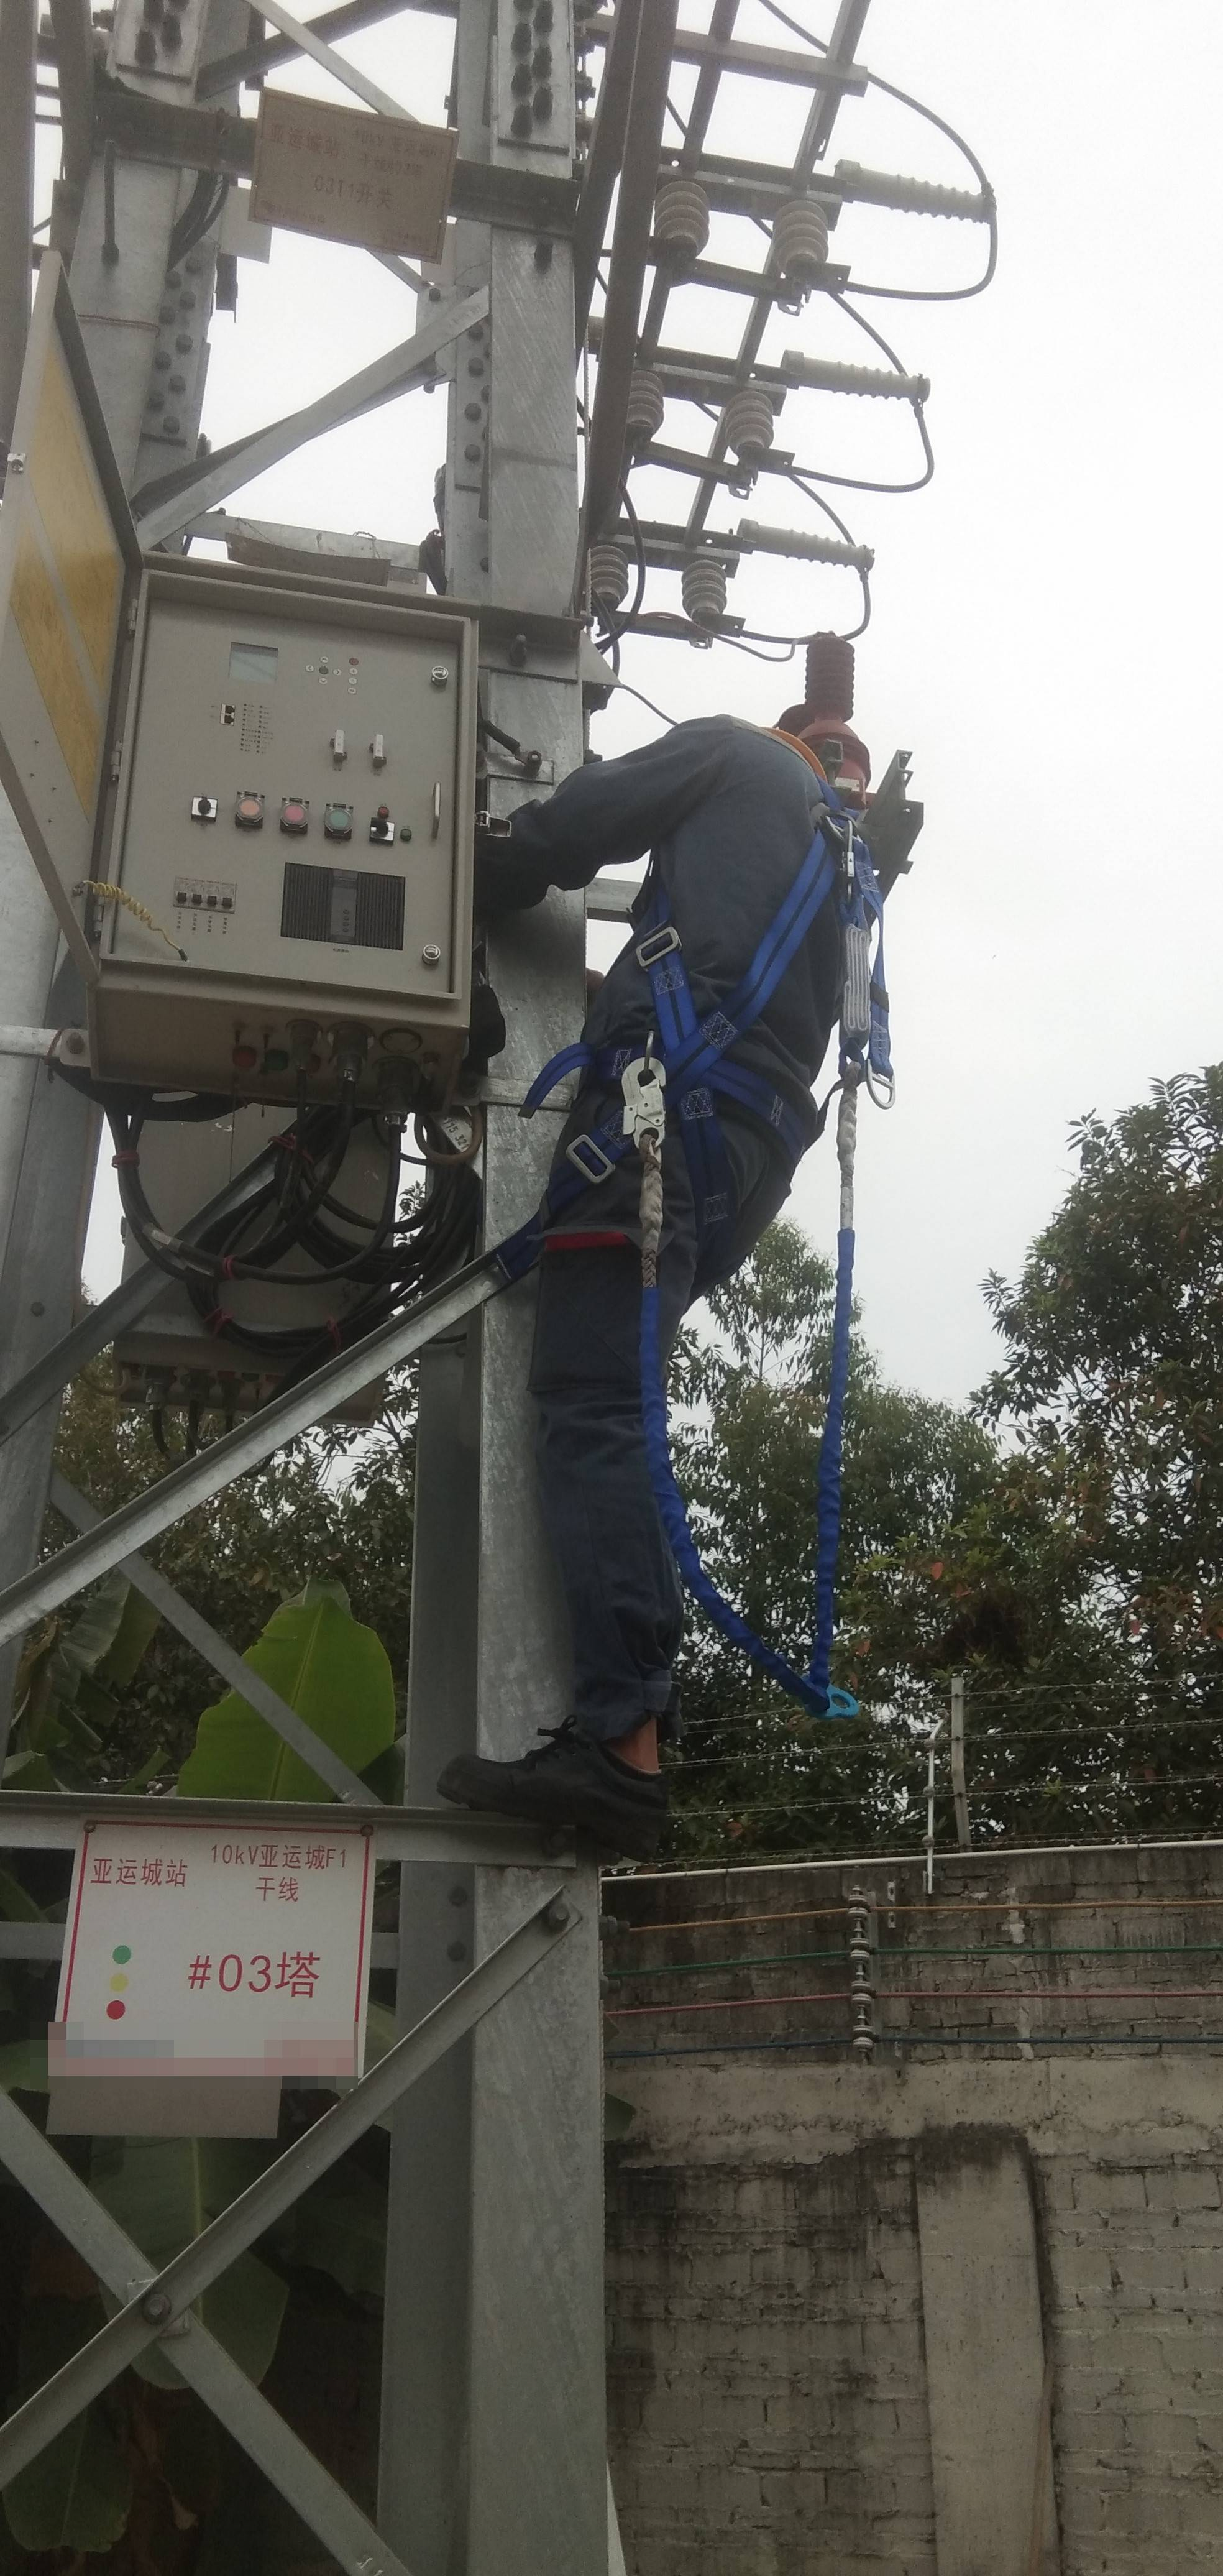downsuit: (522, 1101, 803, 1723)
upsuit: (484, 716, 872, 1107)
